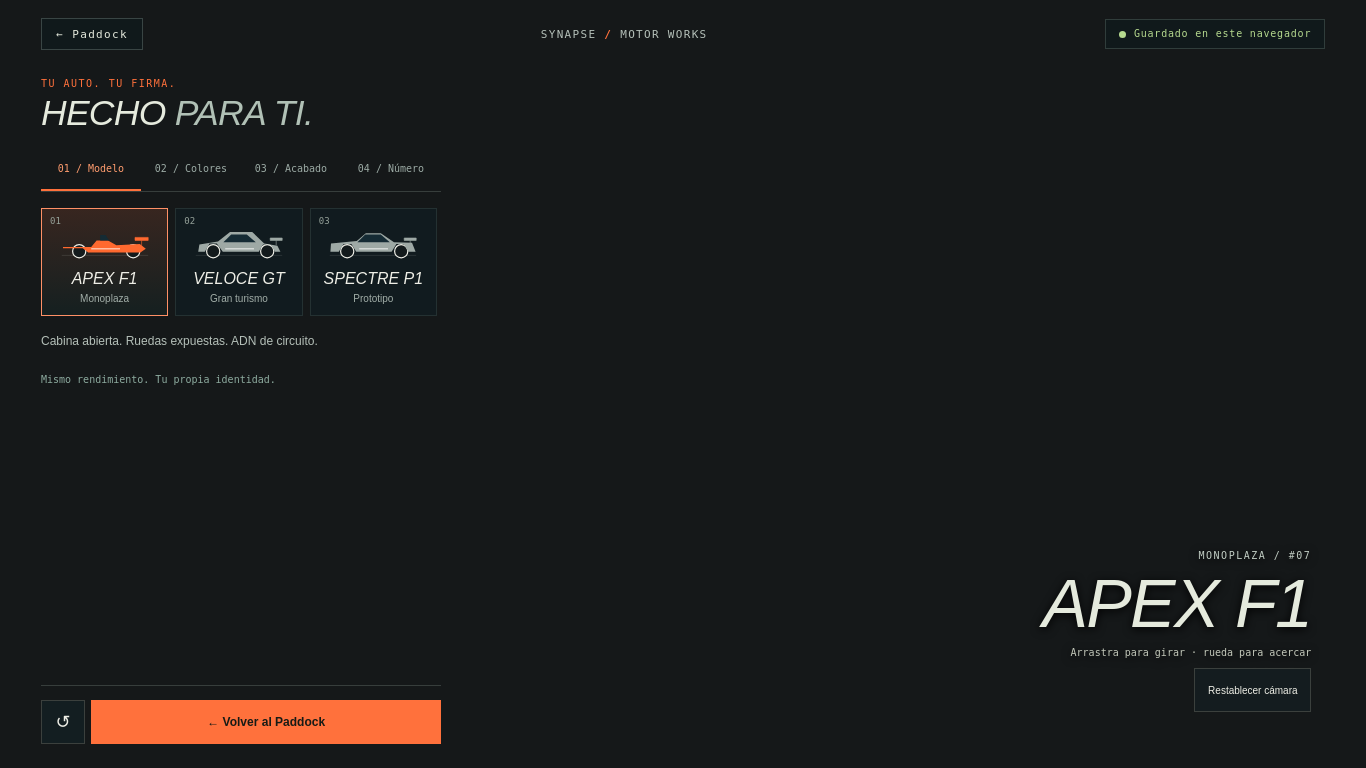
Test: stays in the garage when saving and returning fails
The image size is (1366, 768).
Click the button "03 Spectre P1 Prototipo": x=373, y=262 [310,208,437,316]
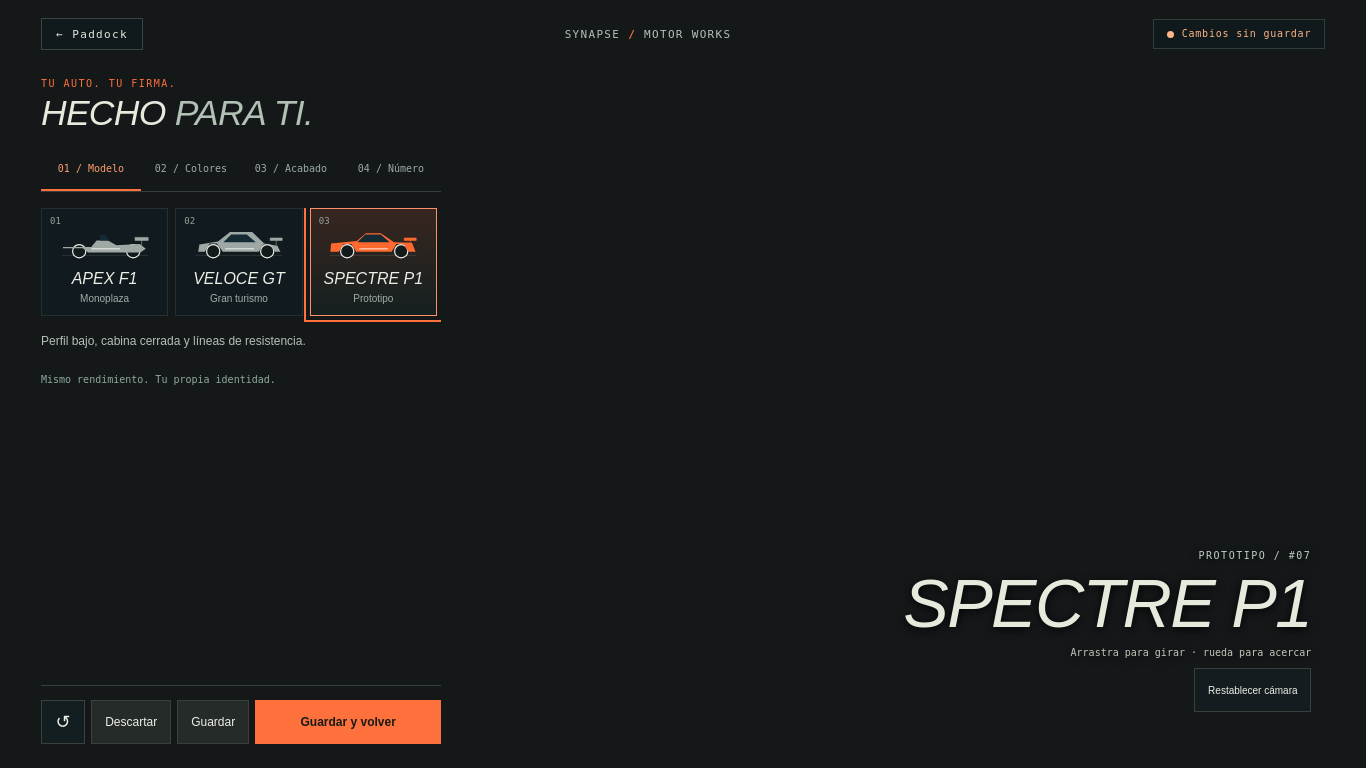
Click the button "Guardar y volver": x=348, y=722 [255,700,441,744]
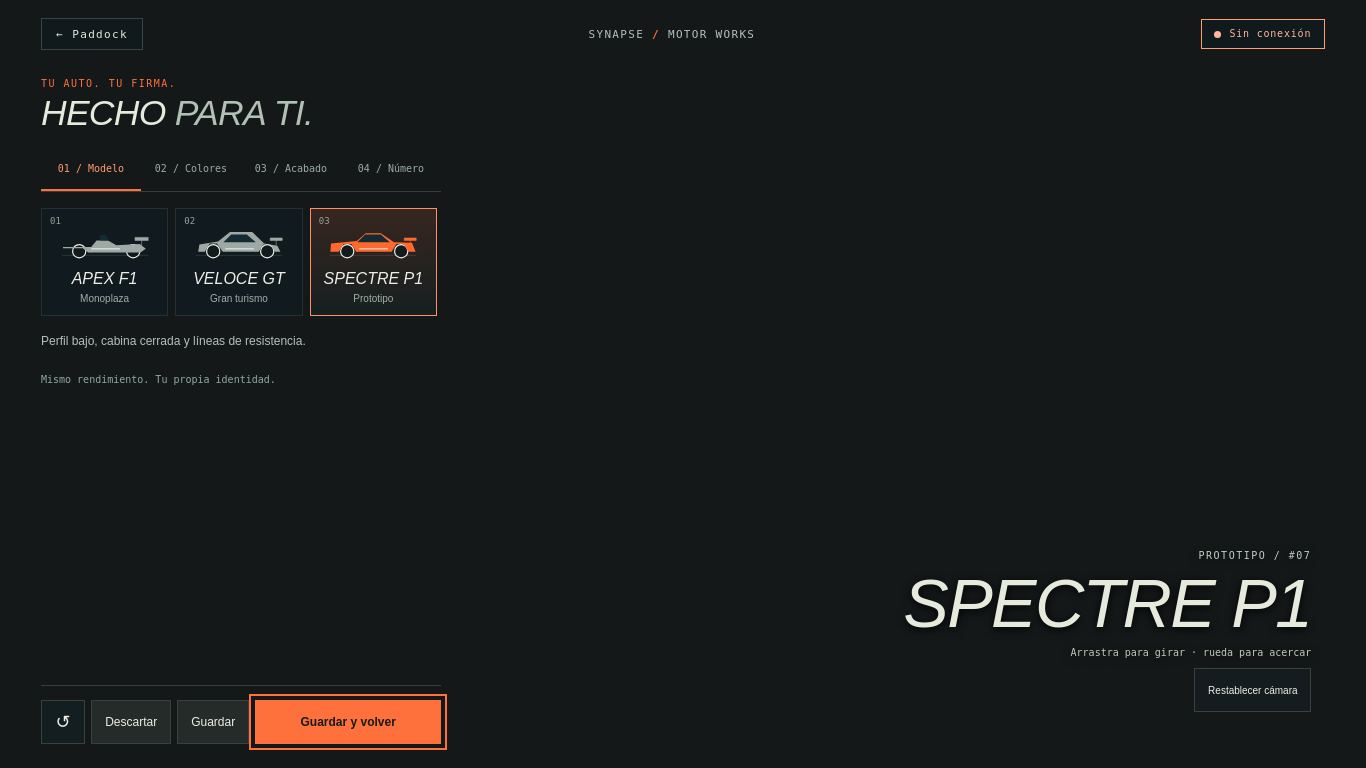
Result: the message reads "Sin conexión" at [1229,28,1311,39]
